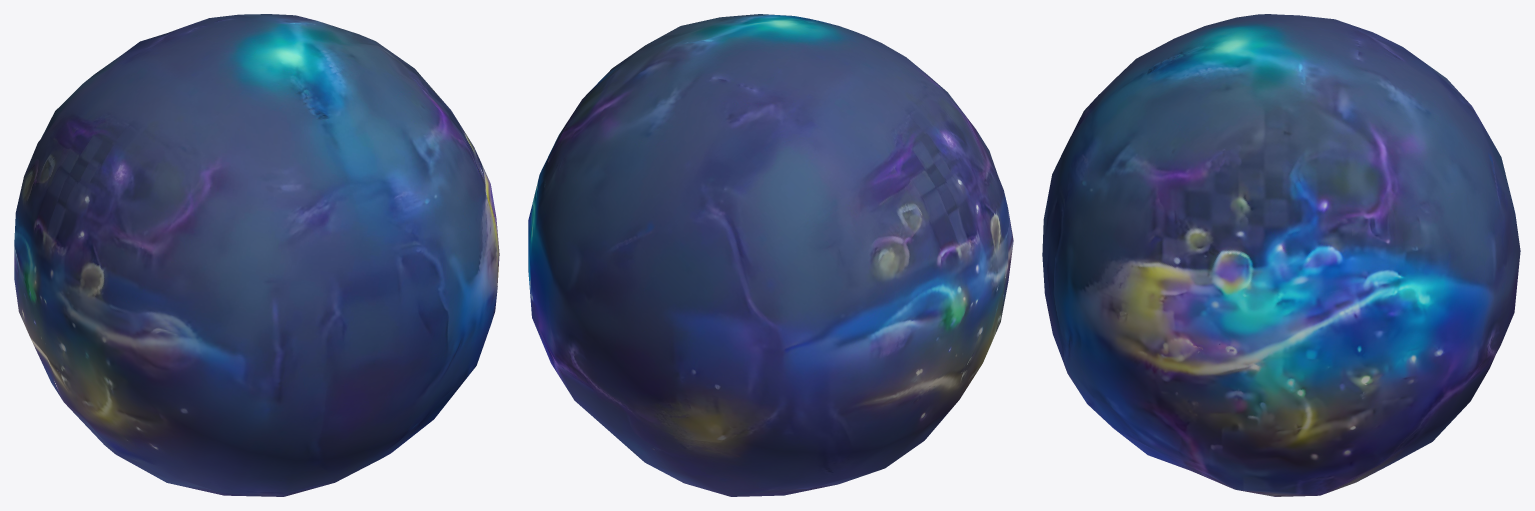
Rendered from PotionGunBullet.fbx.
The picture shows the model from 3 angles, left to right: view 1: azimuth 30°, elevation 25°; view 2: azimuth 150°, elevation 25°; view 3: azimuth 270°, elevation 25°; orthographic projection.
Visible parts, largest first — view 1: tripo_node_737a02b3; view 2: tripo_node_737a02b3; view 3: tripo_node_737a02b3.
Part boxes in pixels (x1=…): tripo_node_737a02b3: x1=14, y1=14, x2=499, y2=496; tripo_node_737a02b3: x1=528, y1=14, x2=1013, y2=496; tripo_node_737a02b3: x1=1042, y1=14, x2=1520, y2=496.
Size of the model in its own units: 0.9883 by 0.9778 by 0.9793.
1 material, 1 textured.
